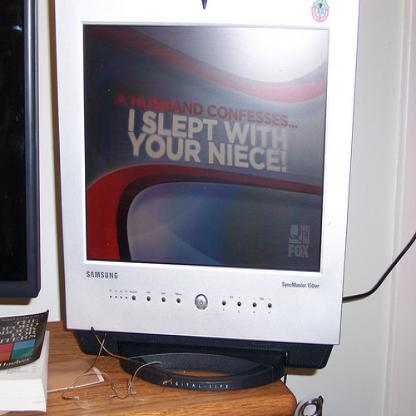tvmonitor: (55, 0, 363, 391), (0, 0, 39, 301)
